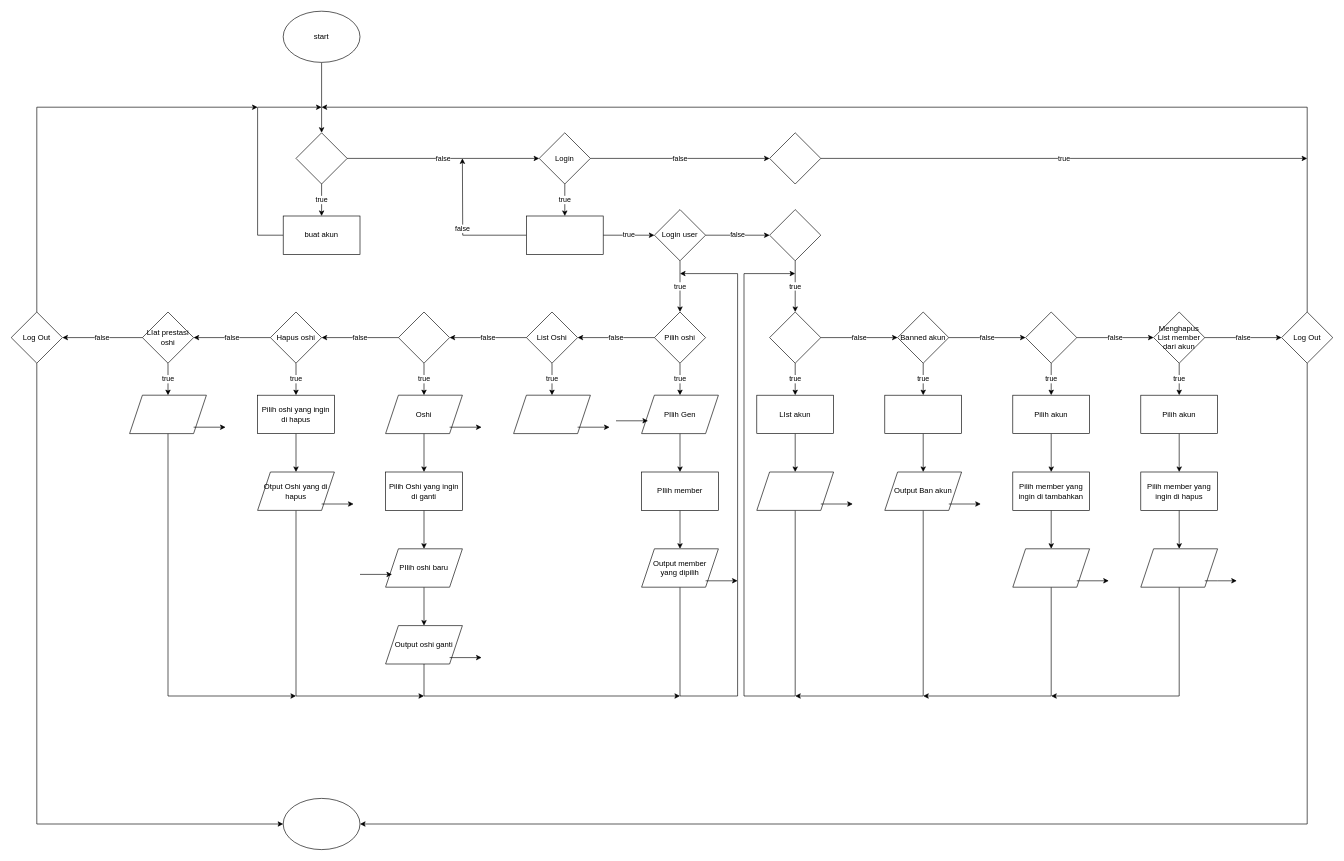
The diagram is 1344 pixels wide and 861 high, and some of its shapes have lost their labels. Each missing label, with the centre of its shape:
"End" goes at (x=321, y=824).
"Ganti Oshi" goes at (x=424, y=337).
"Input: username password" goes at (x=564, y=234).
"Keluar" goes at (x=795, y=158).
"Login Admin" goes at (x=795, y=235).
"Melihat list akun" goes at (x=795, y=337).
"Menambahkan list member" goes at (x=1051, y=337).
"Output akun dan member di pilih" goes at (x=1051, y=567).
"OUtput LIst akun" goes at (x=795, y=490).
"Output List oshi yang di pilih" goes at (x=551, y=414).
"Output oshi yang sudah di hapus" goes at (x=1179, y=567).
"Output prestasi Oshi" goes at (x=167, y=414).
"Pilih akun yg ingin di ban" goes at (x=923, y=414).
"Registrasi" goes at (x=321, y=158).
